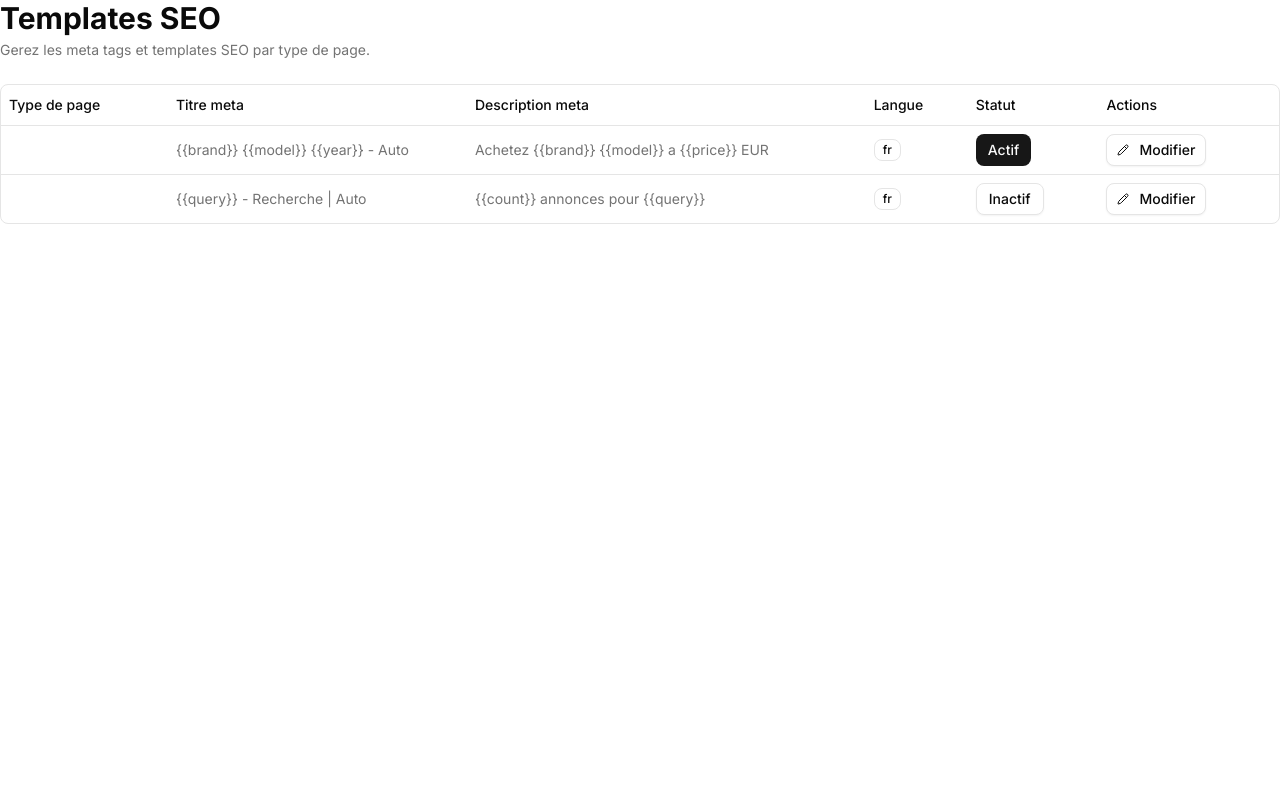
Test: SeoConfigPage › should open edit dialog when clicking edit button
Click the button with test id "seo-edit-s1" at (1156, 150), box [1106,134,1206,166]
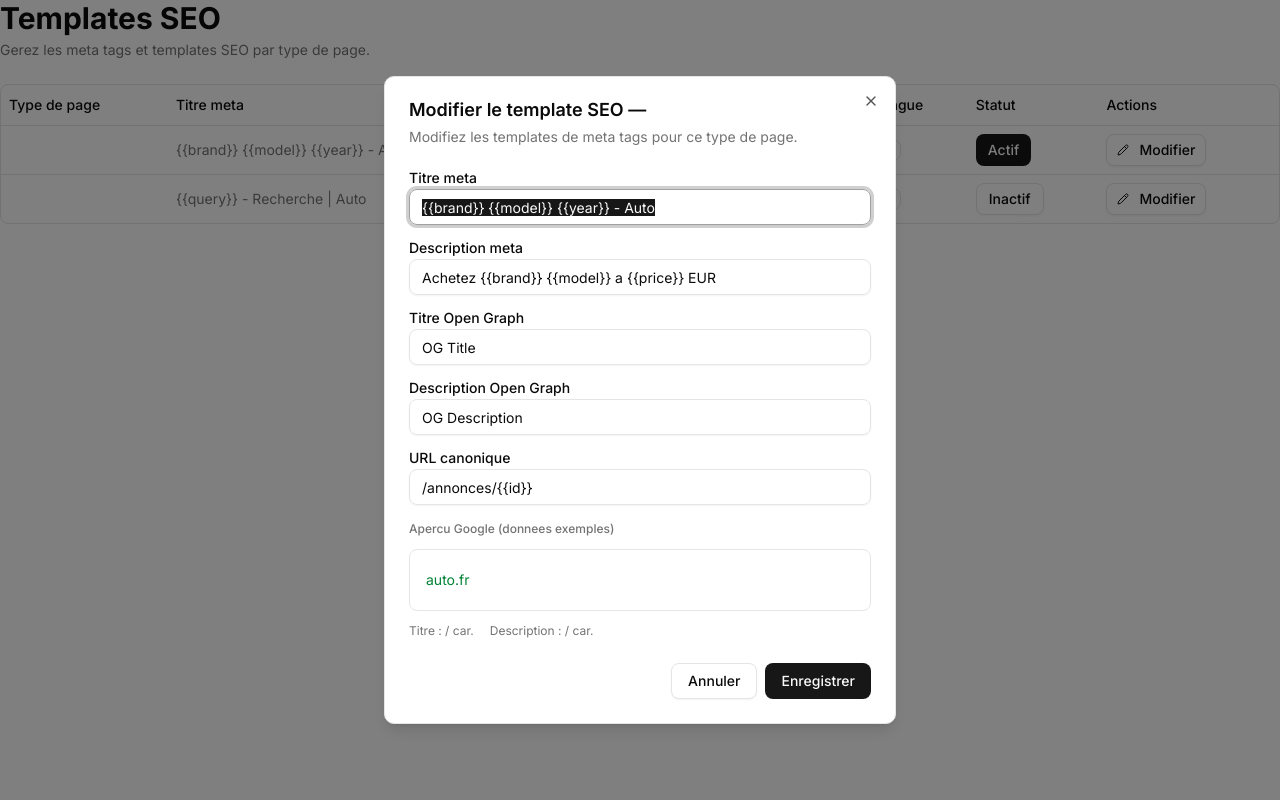
Expected: the heading "Modifier le template SEO —" is shown, [409,99,646,120]
